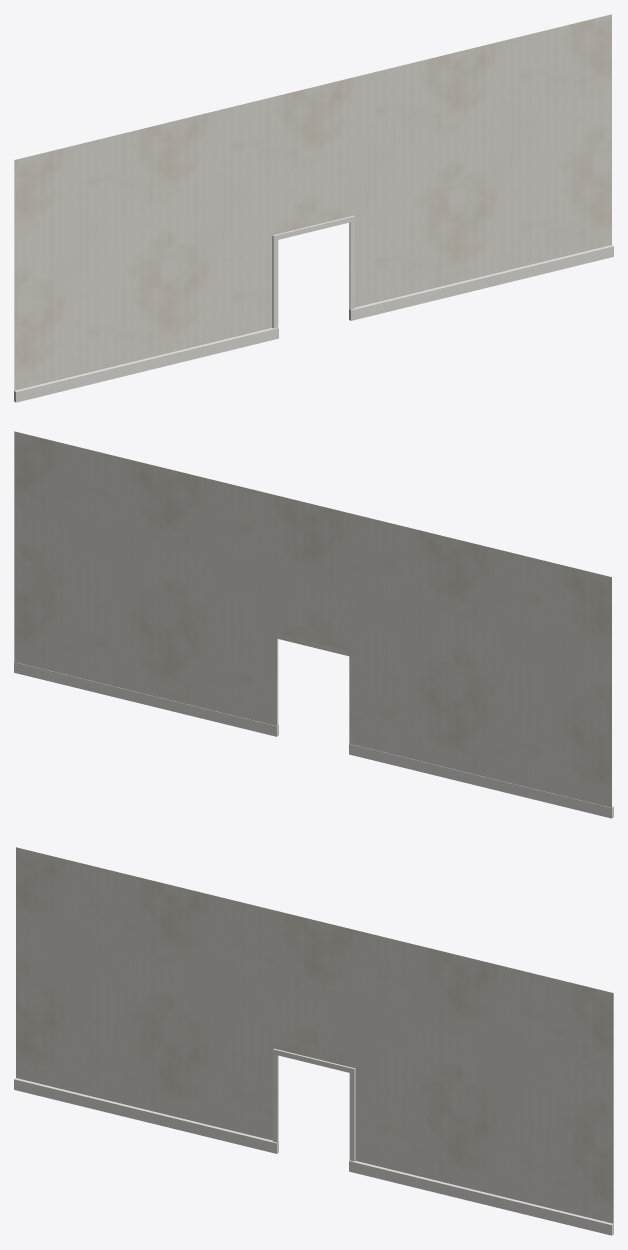
Rendered from wall8_hatch.gltf.
3 views of the same model, one above another, from view 1: azimuth 30°, elevation 25°; view 2: azimuth 150°, elevation 25°; view 3: azimuth 330°, elevation 25° (orthographic).
Parts seen in each view (by area): view 1: jx_w8_hatch; view 2: jx_w8_hatch; view 3: jx_w8_hatch.
Boxes of the visible parts, x1=… form: jx_w8_hatch: x1=14, y1=14, x2=613, y2=402; jx_w8_hatch: x1=14, y1=431, x2=613, y2=818; jx_w8_hatch: x1=14, y1=847, x2=613, y2=1235.
Bounding box in the file's own units: 8.3 × 3.2 × 0.05.
Materials: 2 (2 with a texture image).
